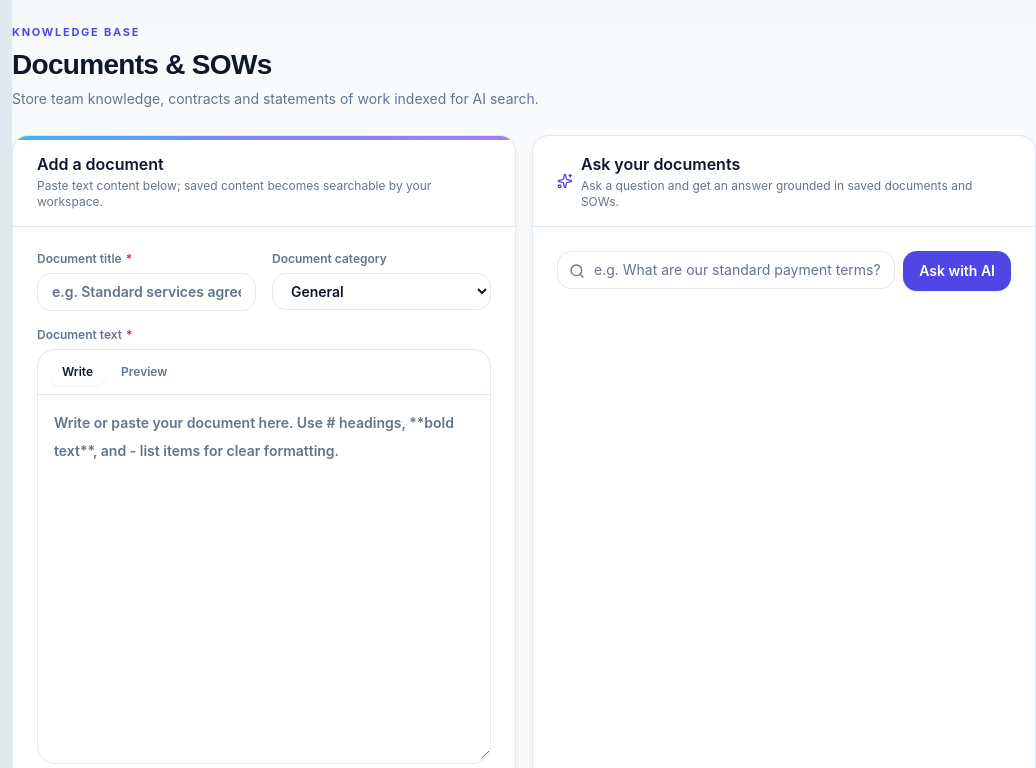
it: DocumentsPage › renders Markdown formatting in AI answers for documents and SOWs
Type "What are the payment terms?" into the field with placeholder "e.g. What are our standard payment terms?" at (726, 270), box 557,250 -> 895,288
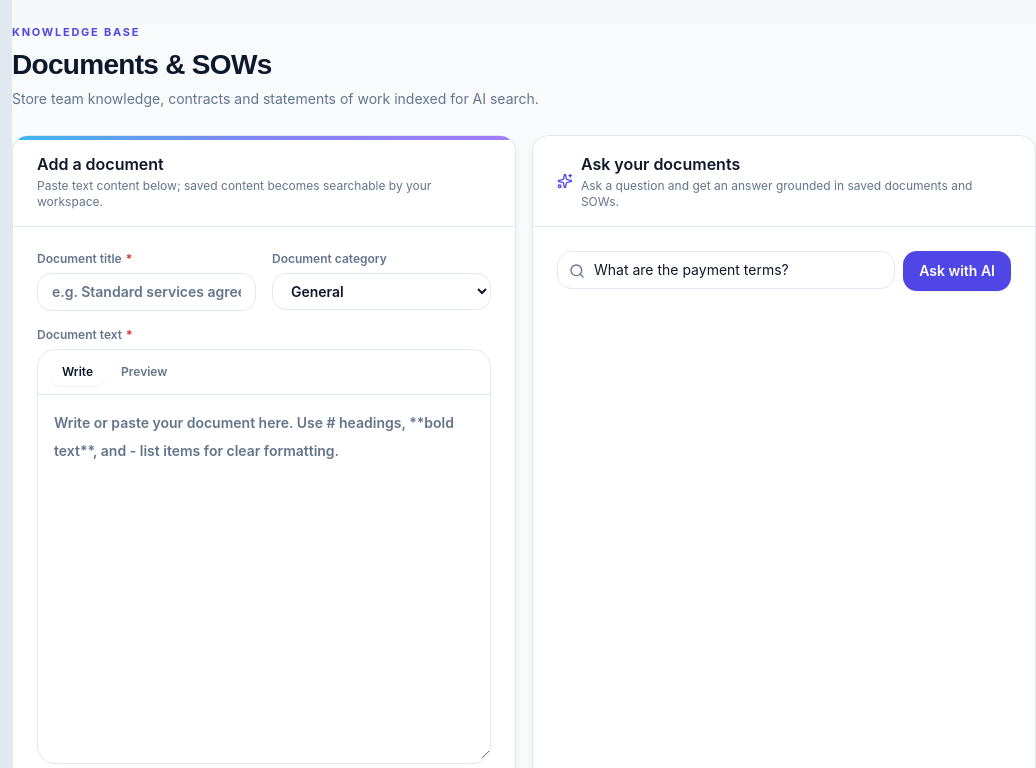
Click the button "Ask with AI" at (957, 270), box 903,250 -> 1011,290
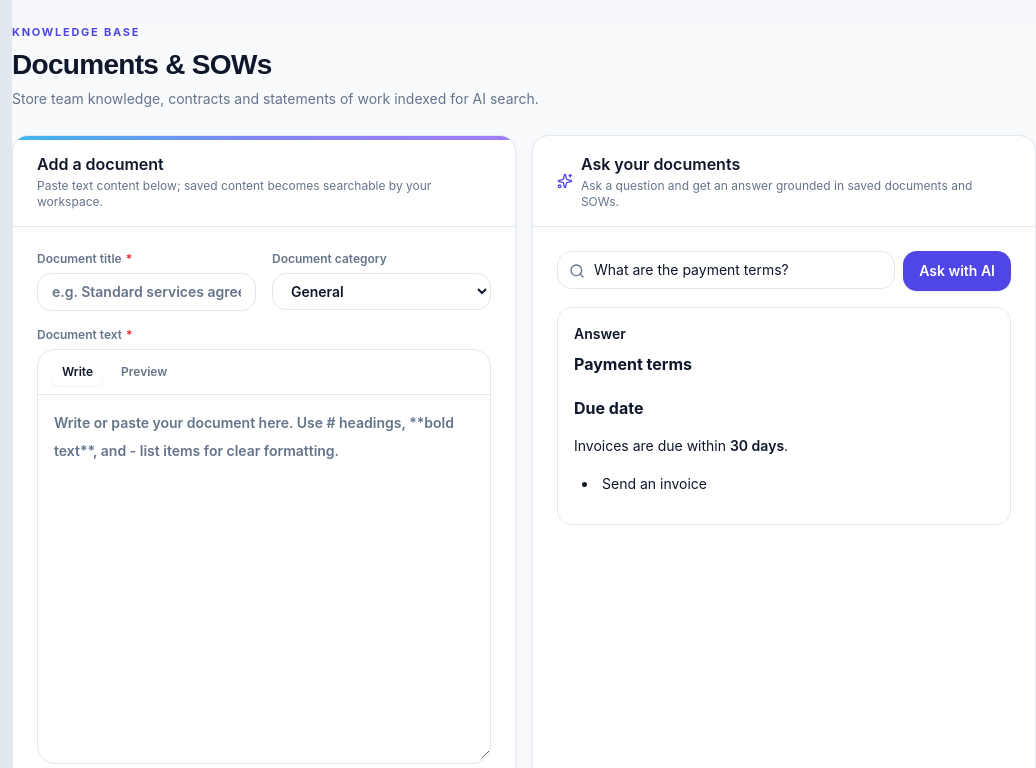
Expected: the heading "Payment terms" is shown, 574,354 -> 692,374
Expected: the heading "Due date" is shown, 574,398 -> 644,418
Expected: the list item reads "Send an invoice", 602,474 -> 707,492
